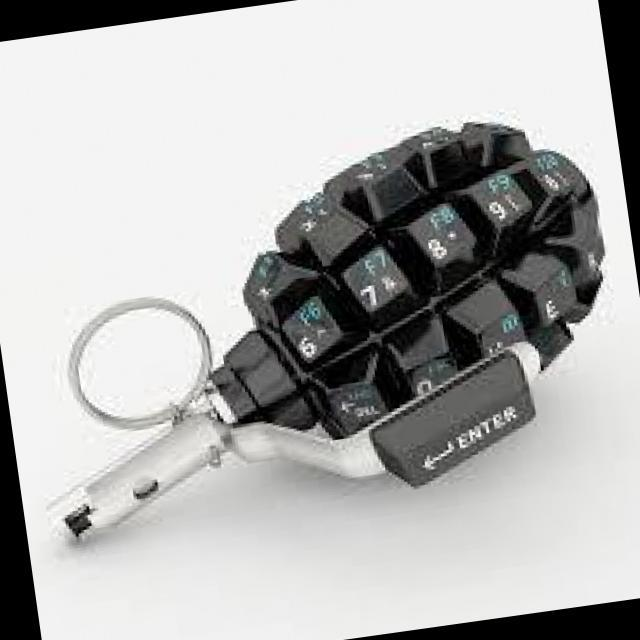grenade: (1, 95, 640, 552)
